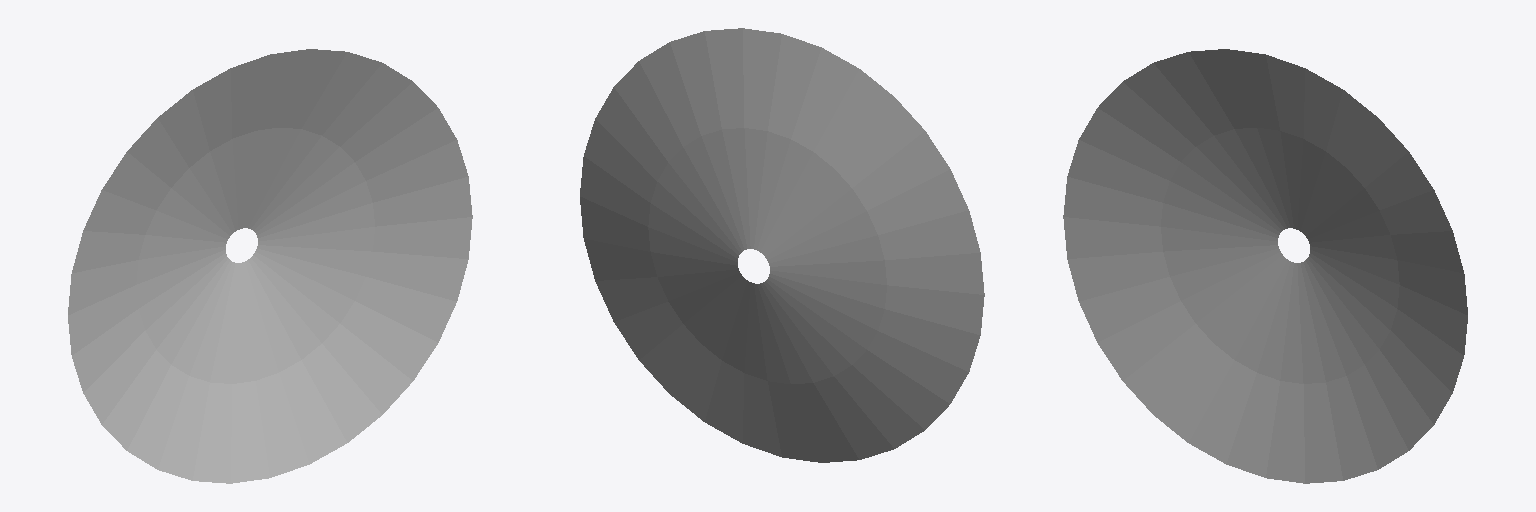
Rendered from MuzzleCone.obj.
3 views of the same model, side by side, from view 1: azimuth 30°, elevation 25°; view 2: azimuth 150°, elevation 25°; view 3: azimuth 330°, elevation 25° (orthographic).
Parts seen in each view (by area): view 1: Cylinder; view 2: Cylinder; view 3: Cylinder.
Boxes of the visible parts, x1,y1,x2,y2 form: Cylinder: [68, 49, 472, 483]; Cylinder: [580, 28, 984, 462]; Cylinder: [1063, 49, 1467, 483].
Bounding box in the file's own units: 2 × 2 × 0.2426.